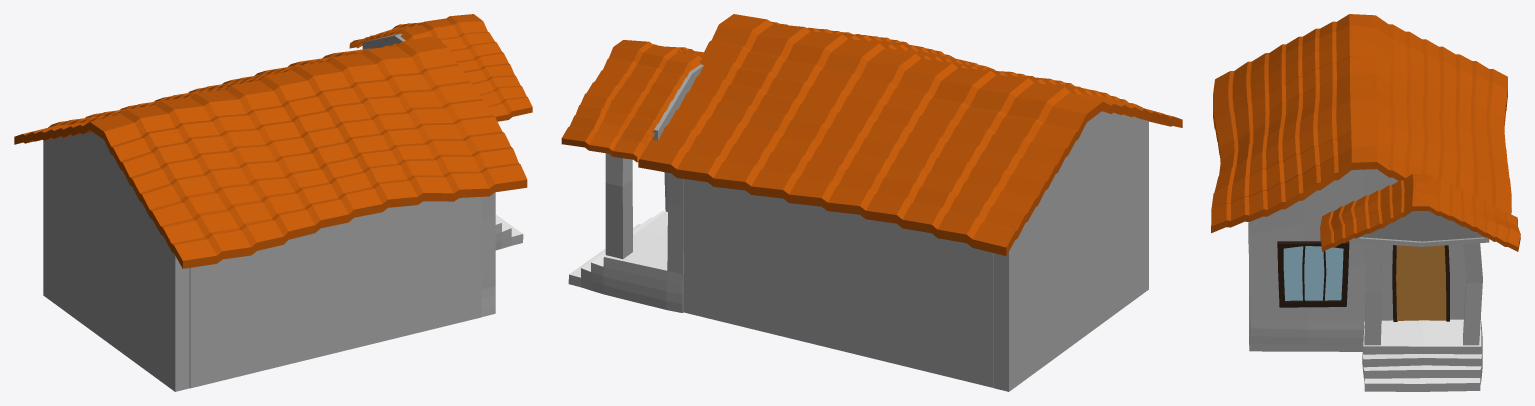
File: rumah 2.fbx
3 views of the same model, side by side, from view 1: azimuth 30°, elevation 25°; view 2: azimuth 150°, elevation 25°; view 3: azimuth 270°, elevation 25° (orthographic). The views are drawn at different scales.
Visible parts, largest first — view 1: atp2_bsr2; view 2: atp2_bsr2; view 3: atp2_bsr2.
Boxes of the visible parts, x1=… form: atp2_bsr2: x1=14, y1=14, x2=532, y2=391; atp2_bsr2: x1=561, y1=14, x2=1182, y2=391; atp2_bsr2: x1=1211, y1=14, x2=1520, y2=391.
Bounding box in the file's own units: 557 × 283 × 398.
